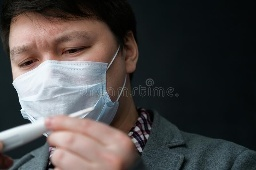correctlyWear: (1, 30, 137, 136)
